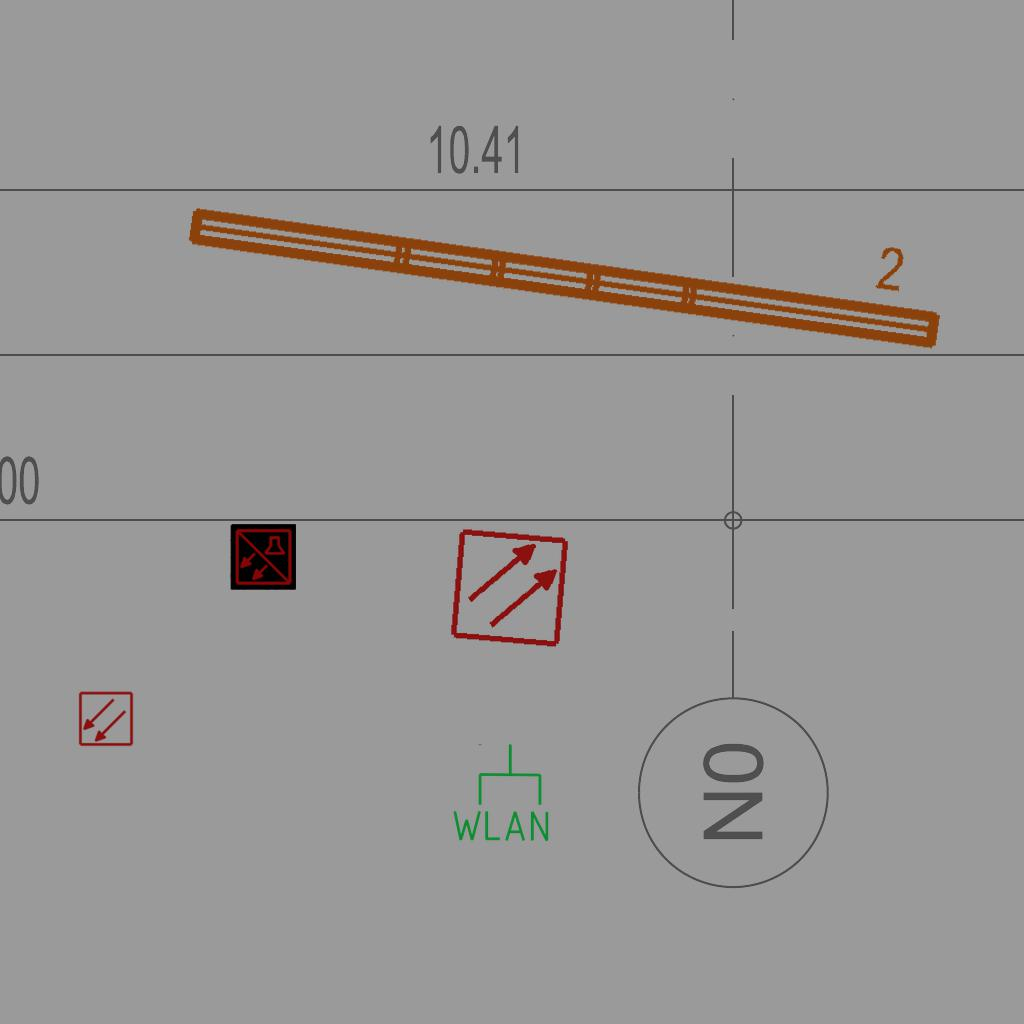Ambulanz_Pendelleuchte_LED: (175, 143, 959, 363)
OKW_Multisensormelder_(Kombination_optischer_Rauch-Kahlenmonoxid_Waerme-Melder): (230, 524, 296, 590)
RMO_Rauchmelder_optischer: (448, 526, 571, 649), (78, 691, 134, 747)
WLAN: (448, 741, 553, 845)
